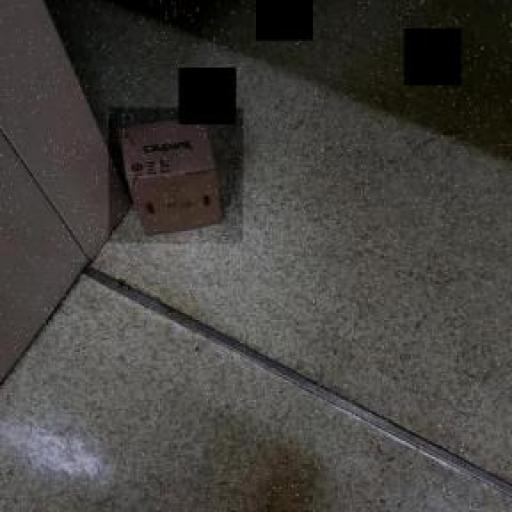box: (108, 108, 244, 244)
